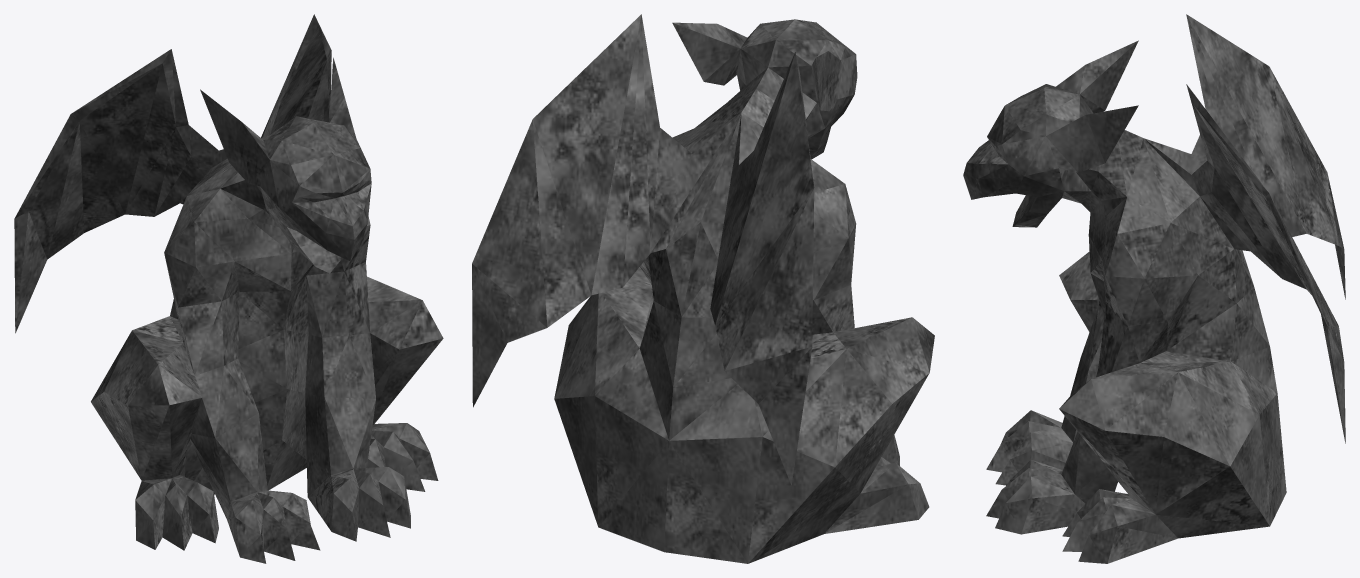
Rendered from gargoyle.dae.
3 views of the same model, side by side, from view 1: azimuth 30°, elevation 25°; view 2: azimuth 150°, elevation 25°; view 3: azimuth 270°, elevation 25° (orthographic). The views are drawn at different scales.
Visible parts, largest first — view 1: SketchUp; view 2: SketchUp; view 3: SketchUp.
Part boxes in pixels (x1=…): SketchUp: x1=14, y1=14, x2=443, y2=563; SketchUp: x1=472, y1=14, x2=934, y2=563; SketchUp: x1=963, y1=14, x2=1345, y2=563.
Size of the model in its own units: 38.98 by 41 by 52.52.
